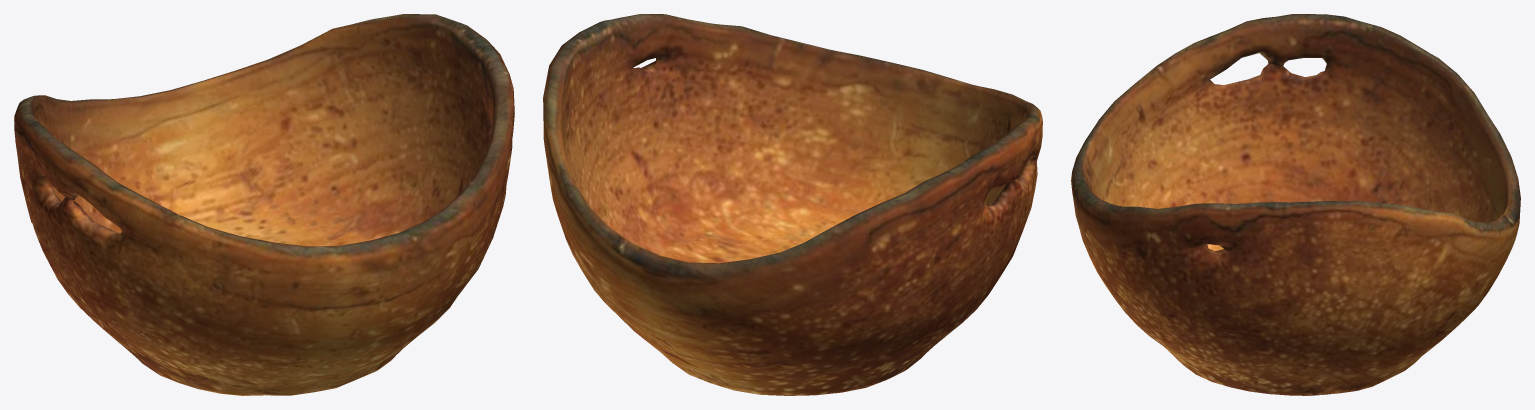
Rendered from wooden_bowl_02.glb.
3 renders of one model, left to right at view 1: azimuth 30°, elevation 25°; view 2: azimuth 150°, elevation 25°; view 3: azimuth 270°, elevation 25°, orthographic. The views are drawn at different scales.
Visible parts, largest first — view 1: wooden_bowl_02; view 2: wooden_bowl_02; view 3: wooden_bowl_02.
Boxes of the visible parts, x1,y1,x2,y2 form: wooden_bowl_02: [14, 14, 514, 395]; wooden_bowl_02: [543, 14, 1042, 395]; wooden_bowl_02: [1071, 14, 1520, 395].
Size of the model in its own units: 0.1307 by 0.0731 by 0.1245.
Materials: 1 (1 with a texture image).
